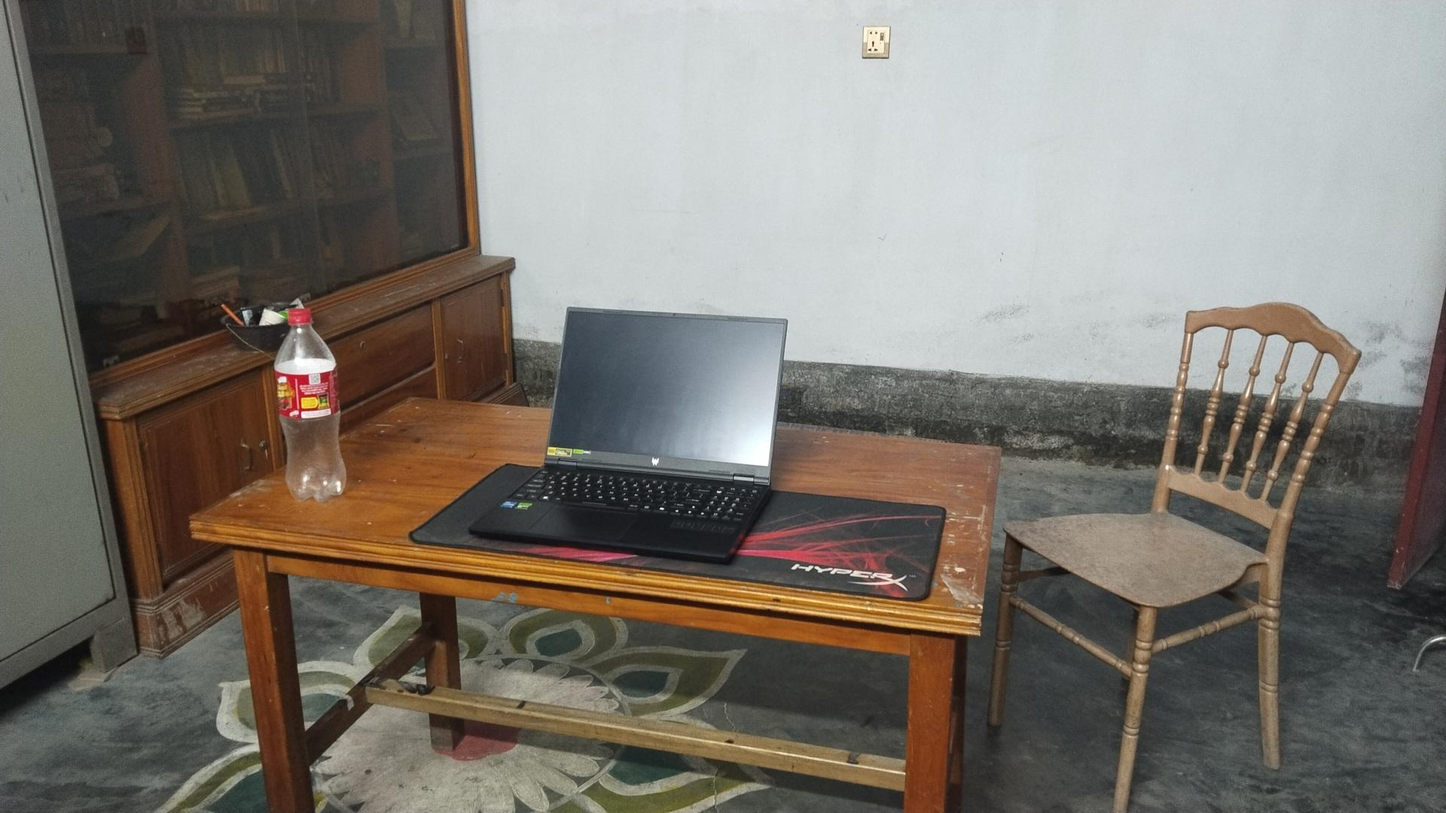Bottle: (263, 308, 345, 505)
Chair: (1008, 294, 1362, 804)
Laptop: (471, 296, 806, 565)
Table: (188, 393, 995, 813)
